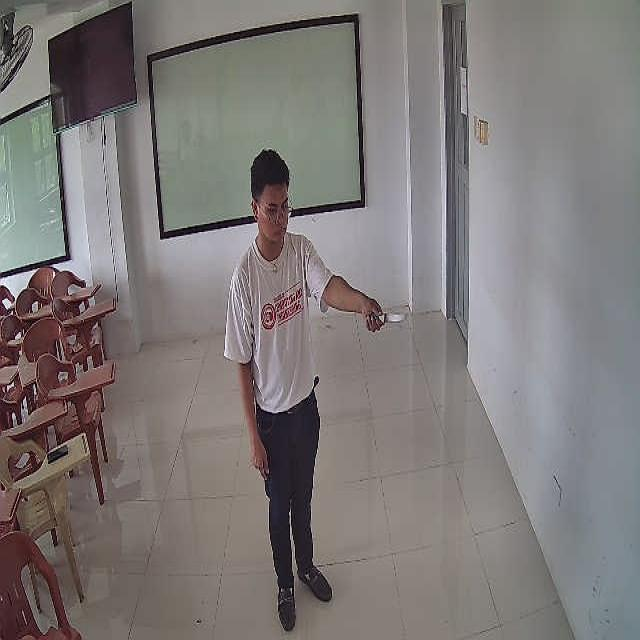knife: (366, 313, 407, 323)
